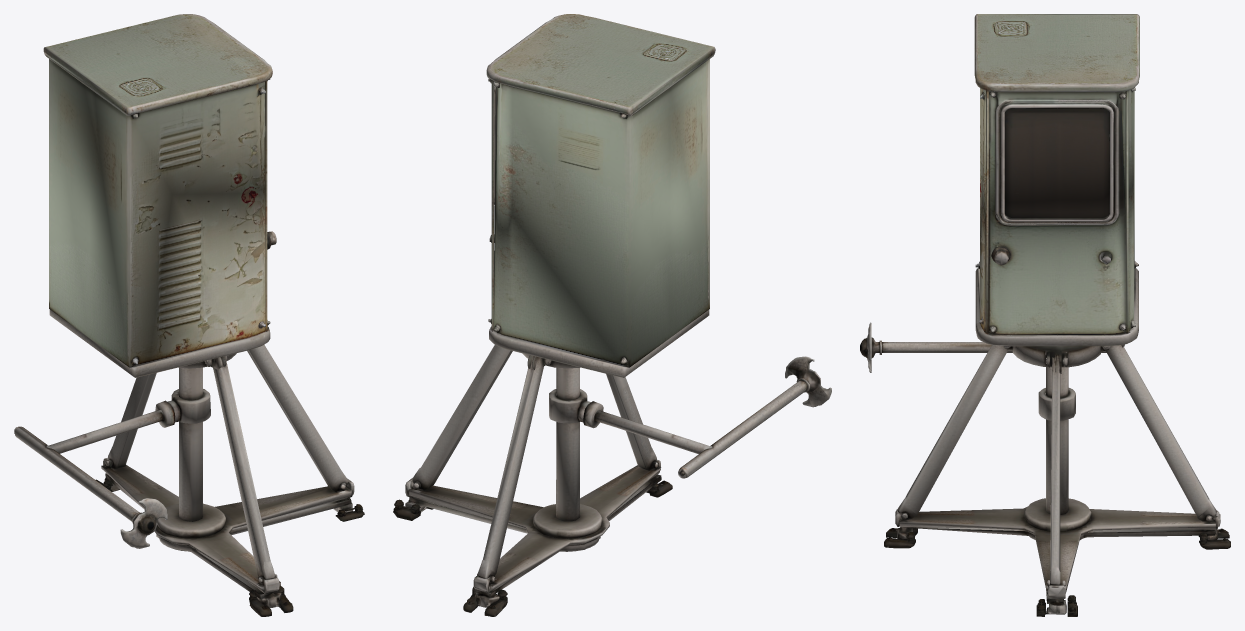
The model's file is theme-turnstile-v05.glb.
The picture shows the model from 3 angles, left to right: view 1: azimuth 30°, elevation 25°; view 2: azimuth 150°, elevation 25°; view 3: azimuth 270°, elevation 25°; orthographic projection. The views are drawn at different scales.
Parts seen in each view (by area): view 1: tripo_node_3e89381f-33a6-4037-87dc-42747bef9d47; view 2: tripo_node_3e89381f-33a6-4037-87dc-42747bef9d47; view 3: tripo_node_3e89381f-33a6-4037-87dc-42747bef9d47.
Part boxes in pixels (x1=…): tripo_node_3e89381f-33a6-4037-87dc-42747bef9d47: x1=14, y1=14, x2=364, y2=616; tripo_node_3e89381f-33a6-4037-87dc-42747bef9d47: x1=393, y1=14, x2=831, y2=616; tripo_node_3e89381f-33a6-4037-87dc-42747bef9d47: x1=860, y1=14, x2=1230, y2=616.
Size of the model in its own units: 0.6986 by 1 by 0.7025.
Materials: 1 (1 with a texture image).
